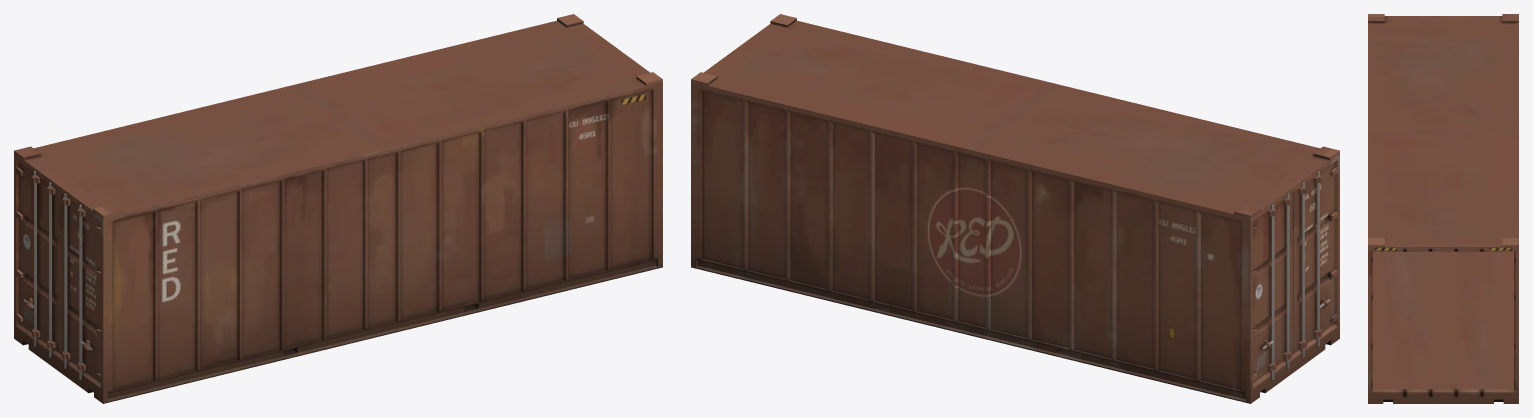
3 views of the same model, side by side, from view 1: azimuth 30°, elevation 25°; view 2: azimuth 150°, elevation 25°; view 3: azimuth 270°, elevation 25° (orthographic). The views are drawn at different scales.
Parts seen in each view (by area): view 1: body0_model0_lod0_mesh0; view 2: body0_model0_lod0_mesh0; view 3: body0_model0_lod0_mesh0.
Boxes of the visible parts, x1,y1,x2,y2 form: body0_model0_lod0_mesh0: (14, 14, 662, 403); body0_model0_lod0_mesh0: (691, 14, 1339, 403); body0_model0_lod0_mesh0: (1368, 14, 1518, 403).
Bounding box in the file's own units: 467 × 149 × 128.
Materials: 1 (1 with a texture image).
